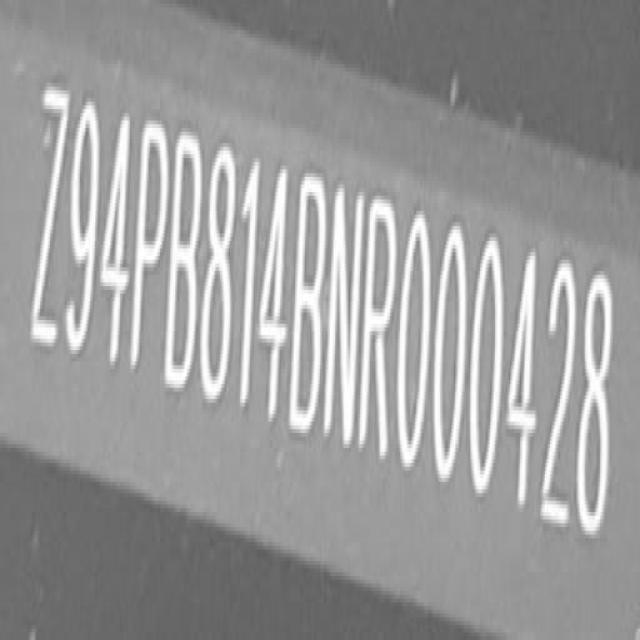0: (390, 207, 436, 472), (464, 232, 508, 504), (428, 221, 472, 491)
1: (232, 153, 260, 414)
2: (536, 254, 580, 530)
4: (501, 243, 546, 517), (94, 105, 140, 372), (254, 168, 296, 423)
8: (571, 266, 621, 540), (197, 138, 240, 400)
9: (62, 98, 105, 365)
B: (162, 125, 208, 390), (288, 174, 332, 436)
N: (321, 180, 369, 450)
P: (126, 115, 170, 381)
R: (359, 191, 404, 466)
Z: (22, 79, 72, 366)
